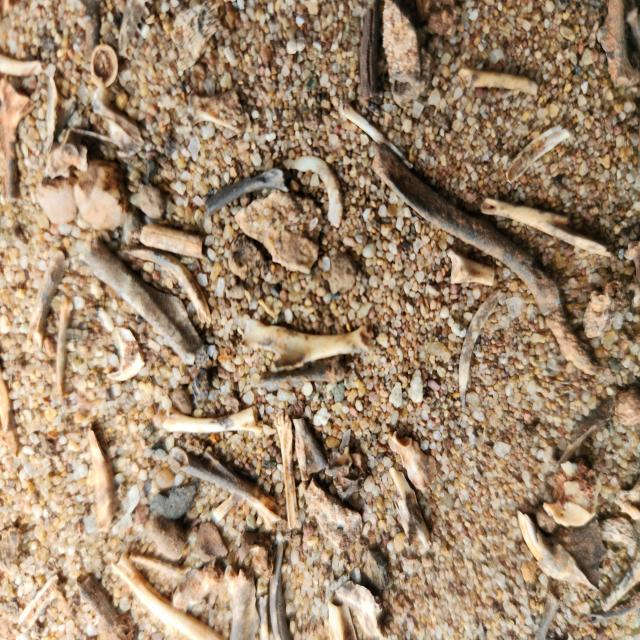fossil: (366, 142, 564, 319), (77, 234, 211, 366), (108, 550, 230, 640), (166, 446, 284, 528), (234, 312, 385, 373), (480, 192, 612, 261), (233, 186, 328, 278), (509, 504, 603, 594), (122, 242, 214, 327), (456, 287, 511, 413), (129, 544, 232, 610), (546, 390, 617, 478), (338, 100, 418, 174), (301, 473, 370, 556), (544, 302, 608, 386), (74, 562, 142, 640), (24, 245, 70, 360), (0, 75, 38, 213), (90, 82, 148, 168), (44, 125, 121, 189), (283, 152, 344, 230), (82, 419, 121, 540), (203, 166, 287, 222), (504, 124, 577, 188), (170, 0, 227, 78), (384, 462, 433, 552), (541, 459, 603, 529), (601, 510, 640, 616), (236, 362, 354, 397), (595, 0, 640, 90), (332, 577, 395, 640), (132, 498, 190, 566), (271, 410, 301, 538), (171, 88, 251, 136), (152, 404, 270, 436), (450, 62, 546, 101), (386, 424, 439, 493), (354, 0, 388, 103), (581, 279, 632, 344), (12, 570, 62, 636), (141, 472, 204, 524), (265, 530, 294, 640), (53, 282, 79, 402), (290, 412, 332, 483), (234, 526, 282, 588), (224, 560, 261, 640), (138, 219, 208, 261), (440, 242, 501, 290), (103, 323, 147, 383), (324, 443, 370, 500), (0, 351, 23, 461), (115, 0, 155, 60), (40, 62, 61, 167), (128, 180, 177, 225), (529, 582, 565, 640), (224, 237, 268, 284), (77, 0, 108, 65), (192, 517, 232, 567), (325, 247, 362, 301), (86, 44, 125, 89), (612, 376, 640, 432), (614, 469, 640, 526), (323, 589, 352, 640), (0, 53, 53, 78), (627, 237, 640, 292), (257, 595, 271, 640)
